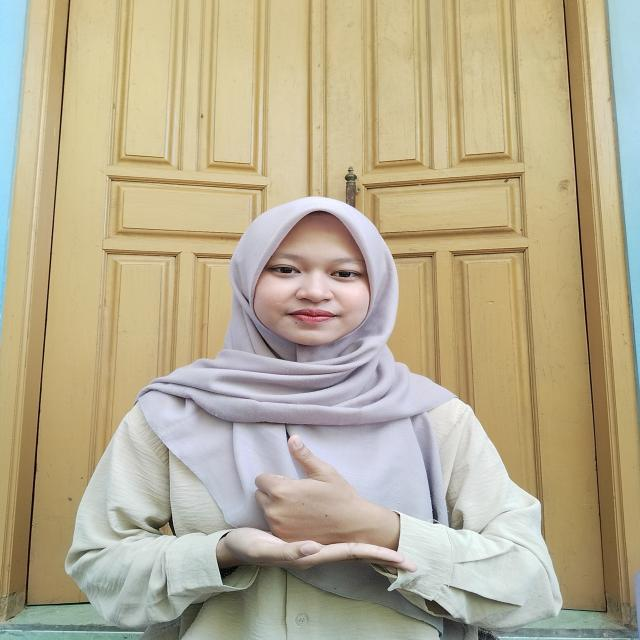cantik: (210, 425, 406, 576)
